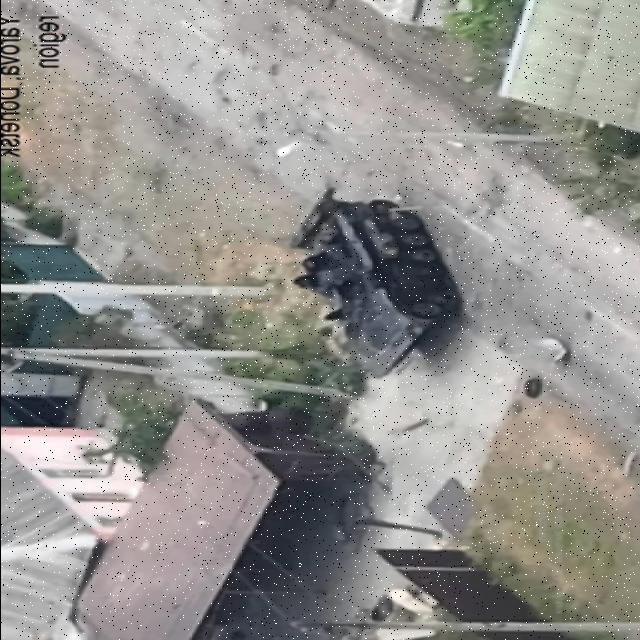APC-IFV: (276, 186, 460, 382)
